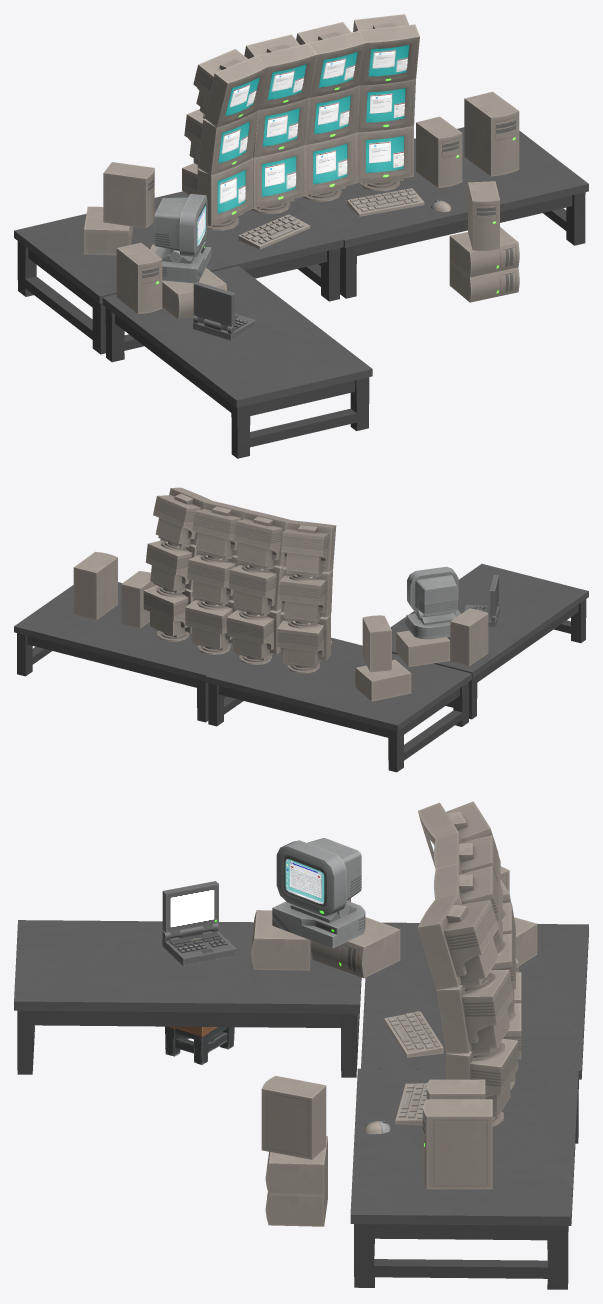
The model's file is Pfb_Controller_02_JLAB.fbx.
3 renders of one model, top to bottom at view 1: azimuth 30°, elevation 25°; view 2: azimuth 150°, elevation 25°; view 3: azimuth 270°, elevation 25°, orthographic. The views are drawn at different scales.
Visible parts, largest first — view 1: Mat_Table_02White, Mat_Computer_01_01, Mat_Computer_01_01 _2; view 2: Mat_Table_02White, Mat_Computer_01_01, Mat_Computer_01_01 _2; view 3: Mat_Table_02White, Mat_Computer_01_01, Mat_Computer_01_01 _2, Mat_Indoors_Table_02.
Boxes of the visible parts, x1=… form: Mat_Table_02White: x1=14, y1=127, x2=588, y2=458; Mat_Computer_01_01: x1=103, y1=14, x2=519, y2=340; Mat_Computer_01_01 _2: x1=84, y1=22, x2=519, y2=319; Mat_Table_02White: x1=14, y1=564, x2=588, y2=772; Mat_Computer_01_01: x1=73, y1=487, x2=499, y2=673; Mat_Computer_01_01 _2: x1=143, y1=501, x2=450, y2=701; Mat_Table_02White: x1=14, y1=920, x2=588, y2=1289; Mat_Computer_01_01: x1=162, y1=801, x2=521, y2=1189; Mat_Computer_01_01 _2: x1=251, y1=863, x2=537, y2=1226; Mat_Indoors_Table_02: x1=165, y1=1026, x2=234, y2=1064.
Bounding box in the file's own units: 5.63 × 2.49 × 4.61.
4 materials, 4 textured.
